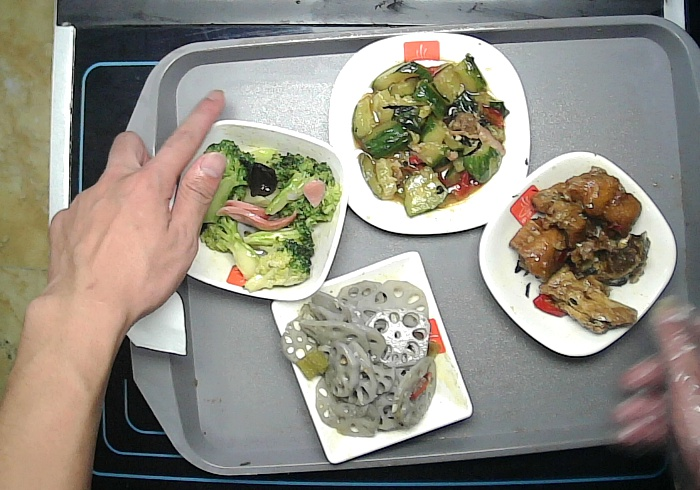SHKJ-Bai_Se_Cai_Die: (476, 150, 678, 359)
SHKJ-Bai_Se_Si_Fang_Cai_Die: (326, 29, 535, 235)
SHKJ-Bai_Se_Xiao_Fang_Die: (172, 118, 349, 303)
SHKJ-Si_Fang_Min: (270, 249, 476, 465)
